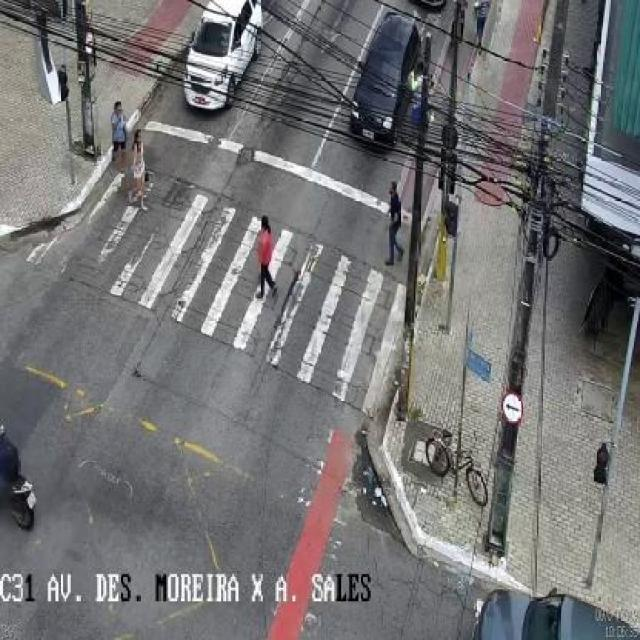Car: (346, 14, 425, 158), (183, 0, 264, 119)
Cycle: (424, 429, 490, 507)
